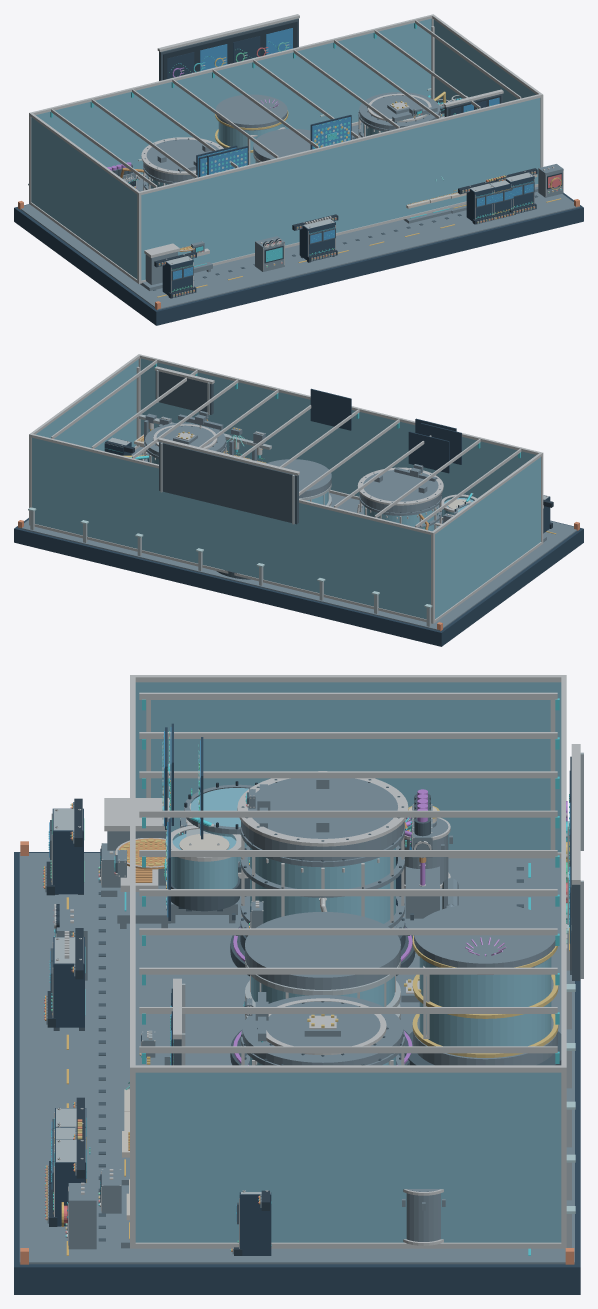
Rendered from Level78_Complete_ArtKit_Showcase.glb.
3 views of the same model, one above another, from view 1: azimuth 30°, elevation 25°; view 2: azimuth 150°, elevation 25°; view 3: azimuth 270°, elevation 25° (orthographic). The views are drawn at different scales.
Parts seen in each view (by area): view 1: Level78_Complete_ArtKit_Showcase_Node_0128, Level78_Complete_ArtKit_Showcase_Node_0127, Level78_Complete_ArtKit_Showcase_Node_0001, Level78_Complete_ArtKit_Showcase_Node_0000, Level78_Complete_ArtKit_Showcase_Node_0129, Level78_Complete_ArtKit_Showcase_Node_0130, Level78_Complete_ArtKit_Showcase_Node_0124, Level78_Complete_ArtKit_Showcase_Node_3899, Level78_Complete_ArtKit_Showcase_Node_0123, Level78_Complete_ArtKit_Showcase_Node_1260, Level78_Complete_ArtKit_Showcase_Node_2788, Level78_Complete_ArtKit_Showcase_Node_5339 (+33 smaller); view 2: Level78_Complete_ArtKit_Showcase_Node_0127, Level78_Complete_ArtKit_Showcase_Node_0128, Level78_Complete_ArtKit_Showcase_Node_0000, Level78_Complete_ArtKit_Showcase_Node_0129, Level78_Complete_ArtKit_Showcase_Node_5338, Level78_Complete_ArtKit_Showcase_Node_0001, Level78_Complete_ArtKit_Showcase_Node_0130, Level78_Complete_ArtKit_Showcase_Node_1260, Level78_Complete_ArtKit_Showcase_Node_4790, Level78_Complete_ArtKit_Showcase_Node_0124, Level78_Complete_ArtKit_Showcase_Node_4129, Level78_Complete_ArtKit_Showcase_Node_0119 (+18 smaller); view 3: Level78_Complete_ArtKit_Showcase_Node_0130, Level78_Complete_ArtKit_Showcase_Node_0001, Level78_Complete_ArtKit_Showcase_Node_0129, Level78_Complete_ArtKit_Showcase_Node_0000, Level78_Complete_ArtKit_Showcase_Node_0519, Level78_Complete_ArtKit_Showcase_Node_3895, Level78_Complete_ArtKit_Showcase_Node_1260, Level78_Complete_ArtKit_Showcase_Node_3899, Level78_Complete_ArtKit_Showcase_Node_2788, Level78_Complete_ArtKit_Showcase_Node_0830, Level78_Complete_ArtKit_Showcase_Node_0126, Level78_Complete_ArtKit_Showcase_Node_0125 (+40 smaller).
Boxes of the visible parts, x1,y1,x2,y2 form: Level78_Complete_ArtKit_Showcase_Node_0128: [141, 98, 540, 280]; Level78_Complete_ArtKit_Showcase_Node_0127: [36, 18, 431, 174]; Level78_Complete_ArtKit_Showcase_Node_0001: [20, 125, 579, 309]; Level78_Complete_ArtKit_Showcase_Node_0000: [14, 193, 583, 325]; Level78_Complete_ArtKit_Showcase_Node_0129: [31, 117, 137, 279]; Level78_Complete_ArtKit_Showcase_Node_0130: [433, 19, 536, 102]; Level78_Complete_ArtKit_Showcase_Node_0124: [137, 94, 543, 195]; Level78_Complete_ArtKit_Showcase_Node_3899: [215, 94, 287, 130]; Level78_Complete_ArtKit_Showcase_Node_0123: [29, 14, 433, 114]; Level78_Complete_ArtKit_Showcase_Node_1260: [143, 139, 219, 181]; Level78_Complete_ArtKit_Showcase_Node_2788: [359, 92, 439, 131]; Level78_Complete_ArtKit_Showcase_Node_5339: [163, 21, 297, 79]; Level78_Complete_ArtKit_Showcase_Node_0127: [32, 437, 430, 619]; Level78_Complete_ArtKit_Showcase_Node_0128: [140, 358, 536, 516]; Level78_Complete_ArtKit_Showcase_Node_0000: [14, 518, 583, 646]; Level78_Complete_ArtKit_Showcase_Node_0129: [435, 457, 540, 618]; Level78_Complete_ArtKit_Showcase_Node_5338: [159, 442, 298, 524]; Level78_Complete_ArtKit_Showcase_Node_0001: [18, 446, 577, 630]; Level78_Complete_ArtKit_Showcase_Node_0130: [36, 359, 138, 451]; Level78_Complete_ArtKit_Showcase_Node_1260: [359, 470, 441, 512]; Level78_Complete_ArtKit_Showcase_Node_4790: [155, 371, 213, 414]; Level78_Complete_ArtKit_Showcase_Node_0124: [138, 354, 542, 455]; Level78_Complete_ArtKit_Showcase_Node_4129: [310, 388, 351, 430]; Level78_Complete_ArtKit_Showcase_Node_0119: [29, 523, 434, 623]; Level78_Complete_ArtKit_Showcase_Node_0130: [135, 1072, 561, 1242]; Level78_Complete_ArtKit_Showcase_Node_0001: [19, 853, 574, 1264]; Level78_Complete_ArtKit_Showcase_Node_0129: [135, 682, 561, 852]; Level78_Complete_ArtKit_Showcase_Node_0000: [14, 852, 580, 1294]; Level78_Complete_ArtKit_Showcase_Node_0519: [245, 912, 400, 989]; Level78_Complete_ArtKit_Showcase_Node_3895: [419, 957, 551, 1046]; Level78_Complete_ArtKit_Showcase_Node_1260: [241, 778, 404, 860]; Level78_Complete_ArtKit_Showcase_Node_3899: [414, 903, 555, 974]; Level78_Complete_ArtKit_Showcase_Node_2788: [242, 995, 403, 1065]; Level78_Complete_ArtKit_Showcase_Node_0830: [250, 847, 395, 923]; Level78_Complete_ArtKit_Showcase_Node_0126: [130, 1065, 566, 1072]; Level78_Complete_ArtKit_Showcase_Node_0125: [130, 675, 565, 682].
Size of the model in its own units: 21.15 by 6.67 by 12.27.
